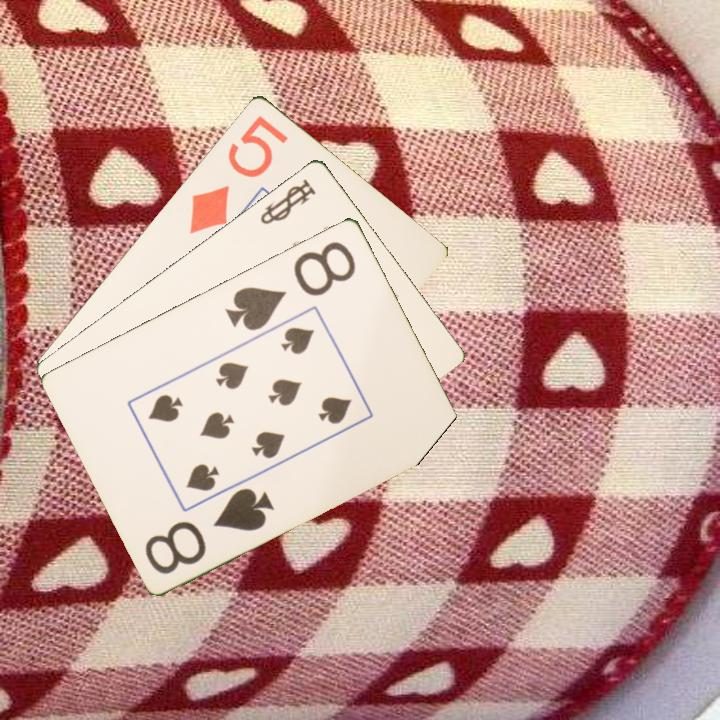5d: (185, 111, 291, 237)
8s: (222, 237, 359, 333), (141, 483, 278, 577)
JK: (256, 175, 319, 227)
